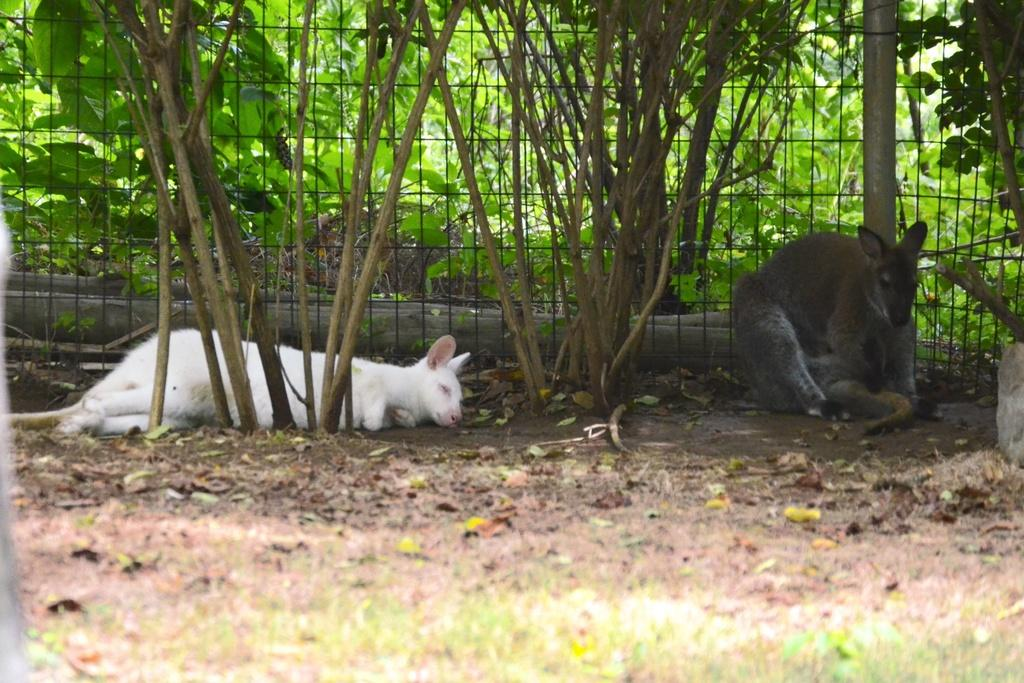kangaroo: (2, 326, 473, 424), (739, 221, 938, 440)
